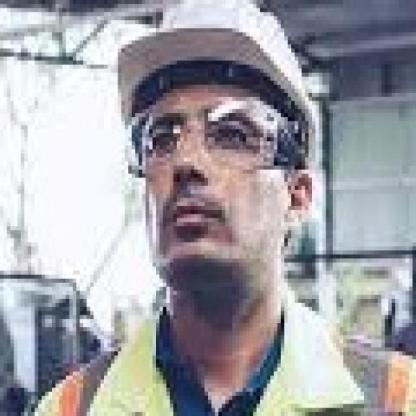capacete: (111, 0, 302, 95)
oculos: (117, 98, 290, 178)
